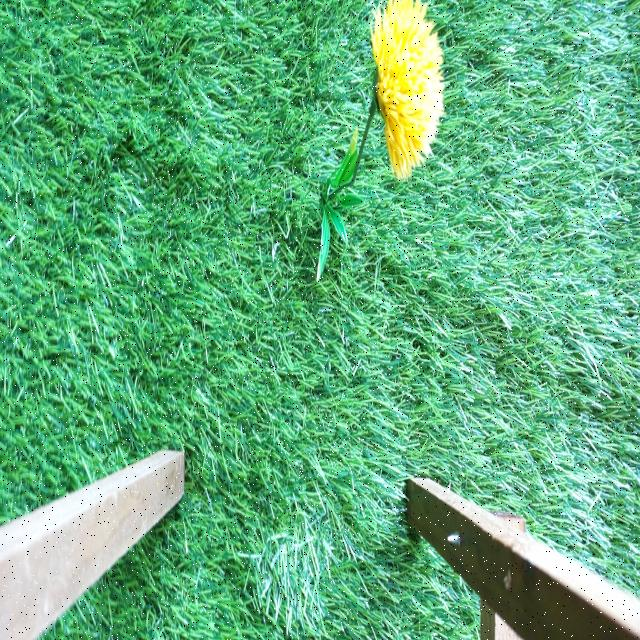base: (320, 128, 358, 282)
flower: (370, 2, 446, 178)
